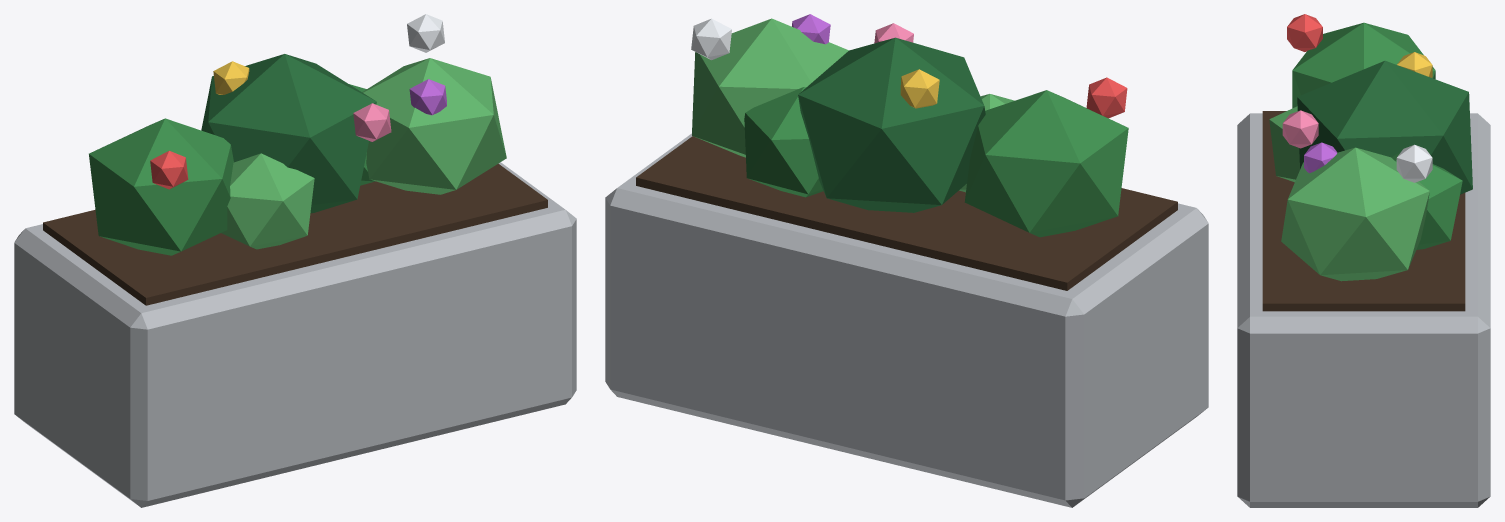
Rendered from planter.glb.
The picture shows the model from 3 angles, left to right: view 1: azimuth 30°, elevation 25°; view 2: azimuth 150°, elevation 25°; view 3: azimuth 270°, elevation 25°; orthographic projection. The views are drawn at different scales.
Visible parts, largest first — view 1: planter; view 2: planter; view 3: planter.
Boxes of the visible parts, x1,y1,x2,y2 form: planter: [14, 14, 576, 507]; planter: [605, 14, 1208, 507]; planter: [1237, 14, 1490, 507].
Bounding box in the file's own units: 1.2 × 0.904 × 0.6.
